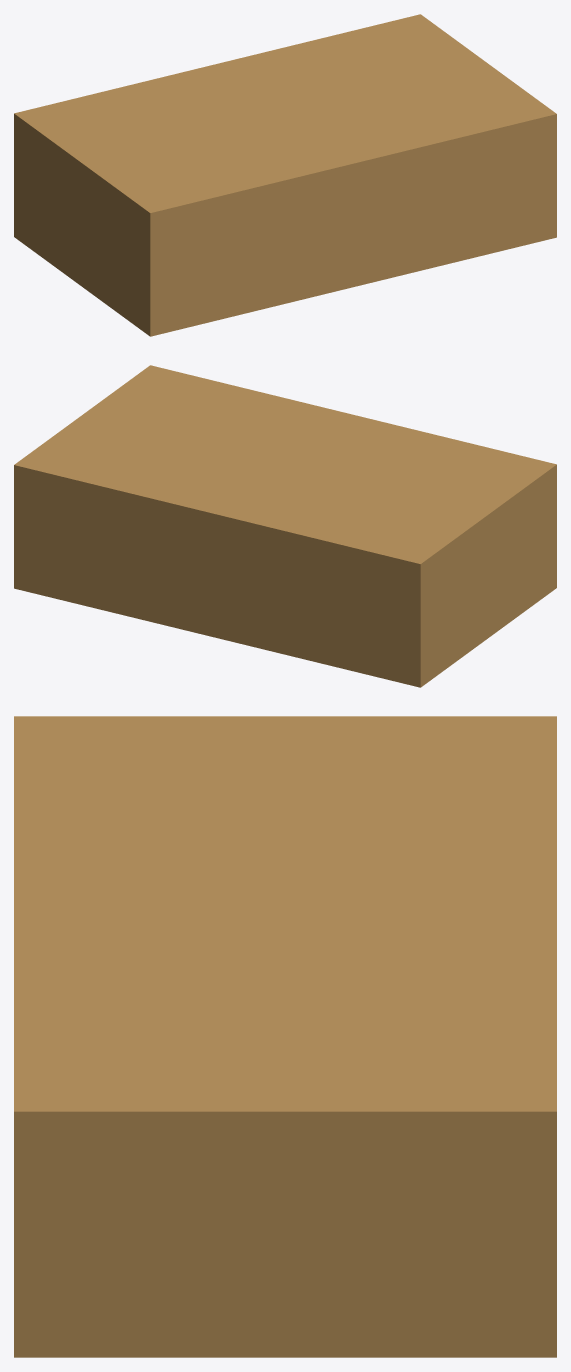
3 views of the same model, one above another, from view 1: azimuth 30°, elevation 25°; view 2: azimuth 150°, elevation 25°; view 3: azimuth 270°, elevation 25° (orthographic). The views are drawn at different scales.
Visible parts, largest first — view 1: RUN-012-S00-NOG-13; view 2: RUN-012-S00-NOG-13; view 3: RUN-012-S00-NOG-13.
Boxes of the visible parts, left/top/right/bottom form: RUN-012-S00-NOG-13: left=14, top=14, right=556, bottom=336; RUN-012-S00-NOG-13: left=14, top=365, right=556, bottom=687; RUN-012-S00-NOG-13: left=14, top=716, right=556, bottom=1357.
Size of the model in its own units: 0.155 by 0.045 by 0.09.
